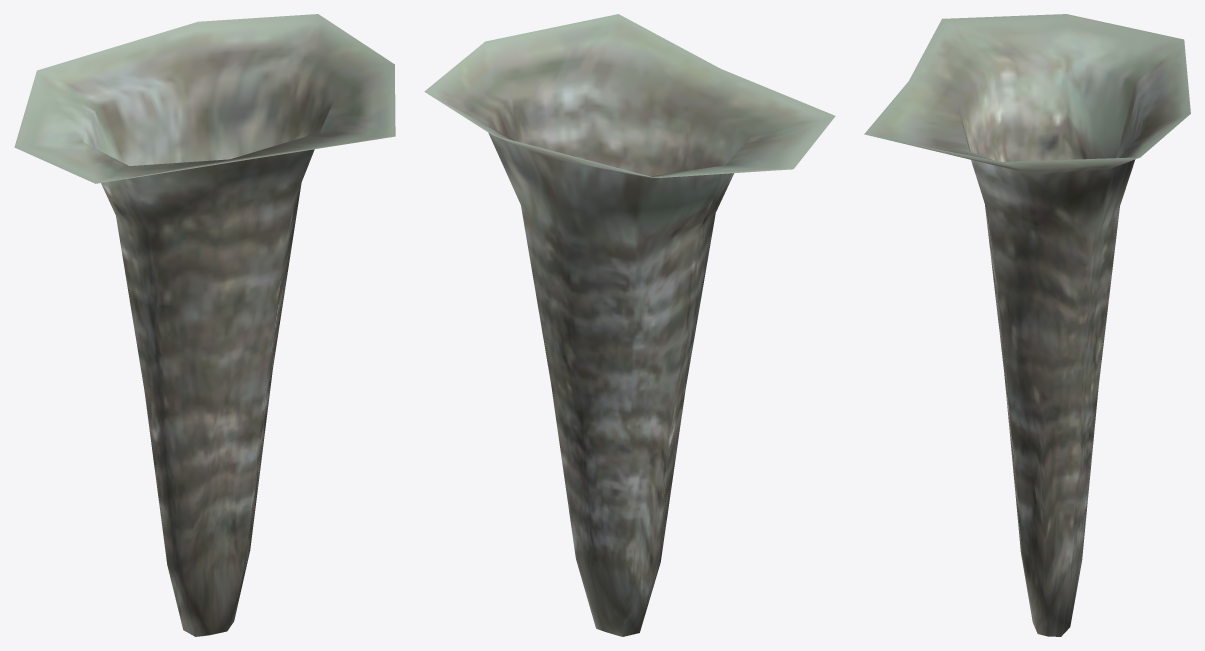
The model's file is TROLLHOLE02_PS-MAINSTALAG82.fbx.
3 views of the same model, side by side, from view 1: azimuth 30°, elevation 25°; view 2: azimuth 150°, elevation 25°; view 3: azimuth 270°, elevation 25° (orthographic). The views are drawn at different scales.
Parts seen in each view (by area): view 1: TROLLHOLE02_PS-MAINSTALAG82; view 2: TROLLHOLE02_PS-MAINSTALAG82; view 3: TROLLHOLE02_PS-MAINSTALAG82.
Part boxes in pixels (x1,y1,x2,y2): TROLLHOLE02_PS-MAINSTALAG82: [14, 14, 395, 636]; TROLLHOLE02_PS-MAINSTALAG82: [424, 14, 835, 636]; TROLLHOLE02_PS-MAINSTALAG82: [864, 14, 1190, 636].
Size of the model in its own units: 23026 by 34883 by 18699.
Materials: 1 (1 with a texture image).
